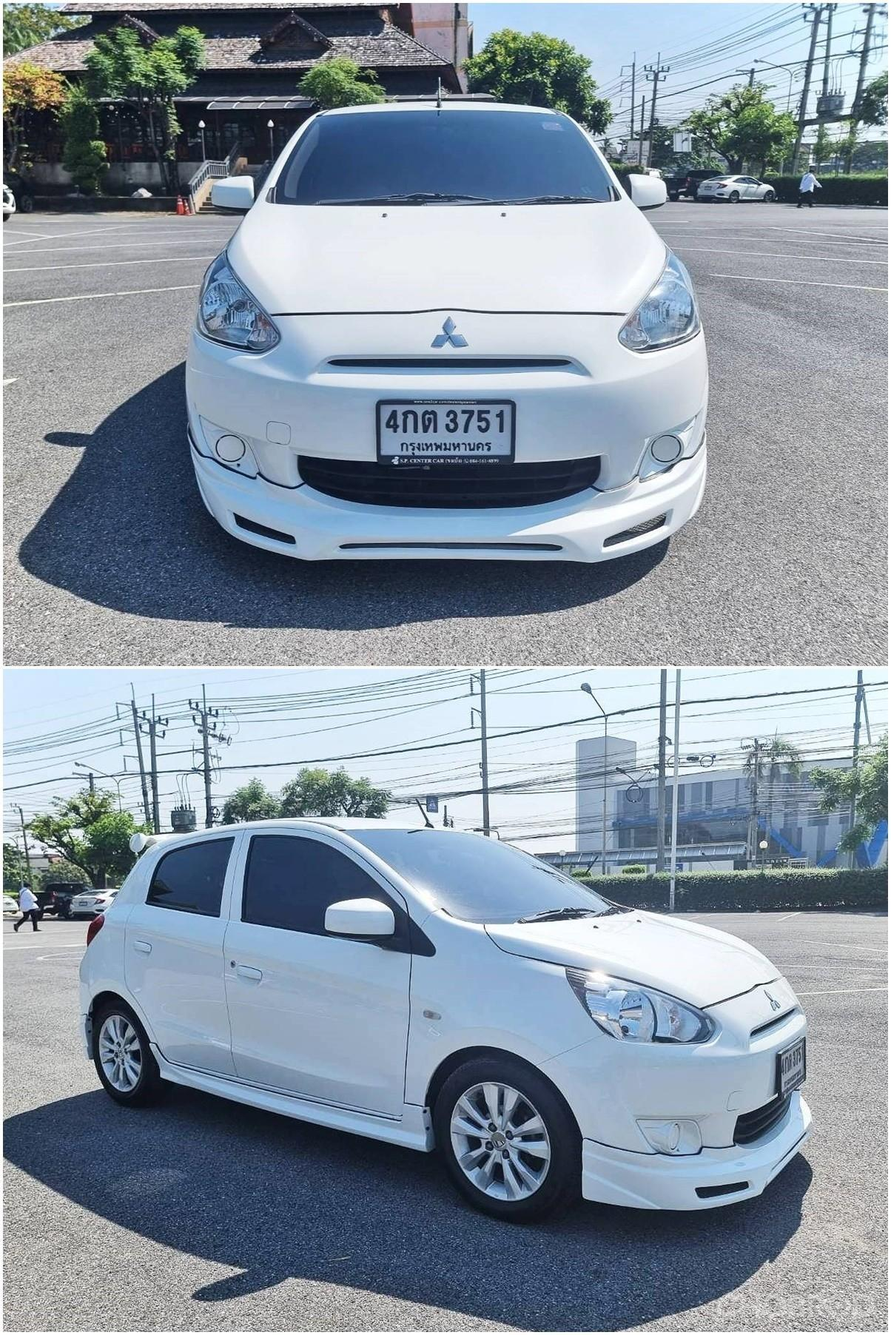license-plate: (374, 392, 519, 469), (771, 1036, 818, 1099)
